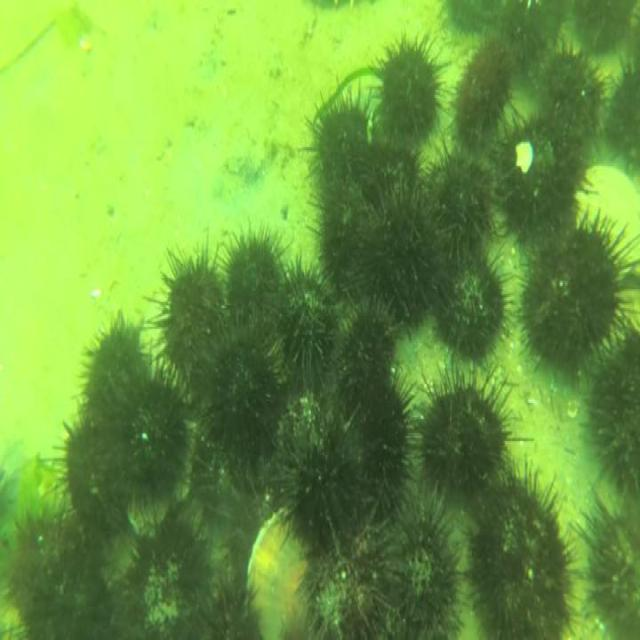echinus: (464, 464, 574, 640), (516, 212, 630, 378), (4, 502, 114, 640), (198, 326, 284, 484), (414, 367, 511, 507), (268, 401, 356, 550), (359, 174, 441, 333), (333, 366, 416, 522), (491, 112, 588, 239), (123, 510, 214, 640), (380, 498, 463, 640), (152, 247, 230, 387), (302, 512, 385, 640), (270, 259, 340, 400), (576, 486, 640, 640), (318, 166, 387, 308), (429, 250, 513, 365), (422, 145, 496, 272), (585, 324, 640, 491), (122, 365, 189, 498), (63, 406, 132, 534), (372, 32, 446, 147), (450, 35, 516, 152), (307, 89, 377, 199), (83, 318, 150, 428), (535, 36, 605, 141), (219, 226, 285, 330), (340, 305, 399, 393), (191, 580, 264, 640), (606, 59, 640, 172), (570, 0, 635, 58), (439, 0, 525, 41)
scallop: (239, 502, 305, 640), (576, 163, 640, 281)
